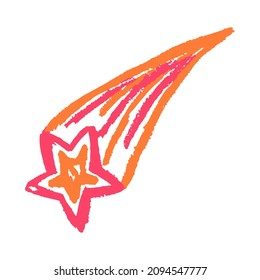star: (24, 128, 124, 234)
